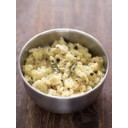venpongal: (27, 45, 103, 93)
